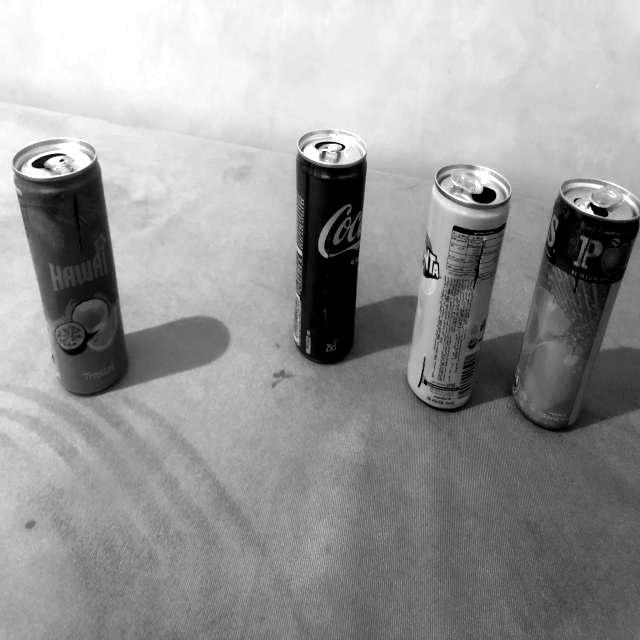cut: (557, 224, 602, 302), (314, 221, 338, 346), (459, 230, 489, 324), (65, 192, 87, 259)
metal: (513, 179, 639, 430), (13, 138, 126, 394), (407, 164, 510, 410), (293, 130, 366, 363)
